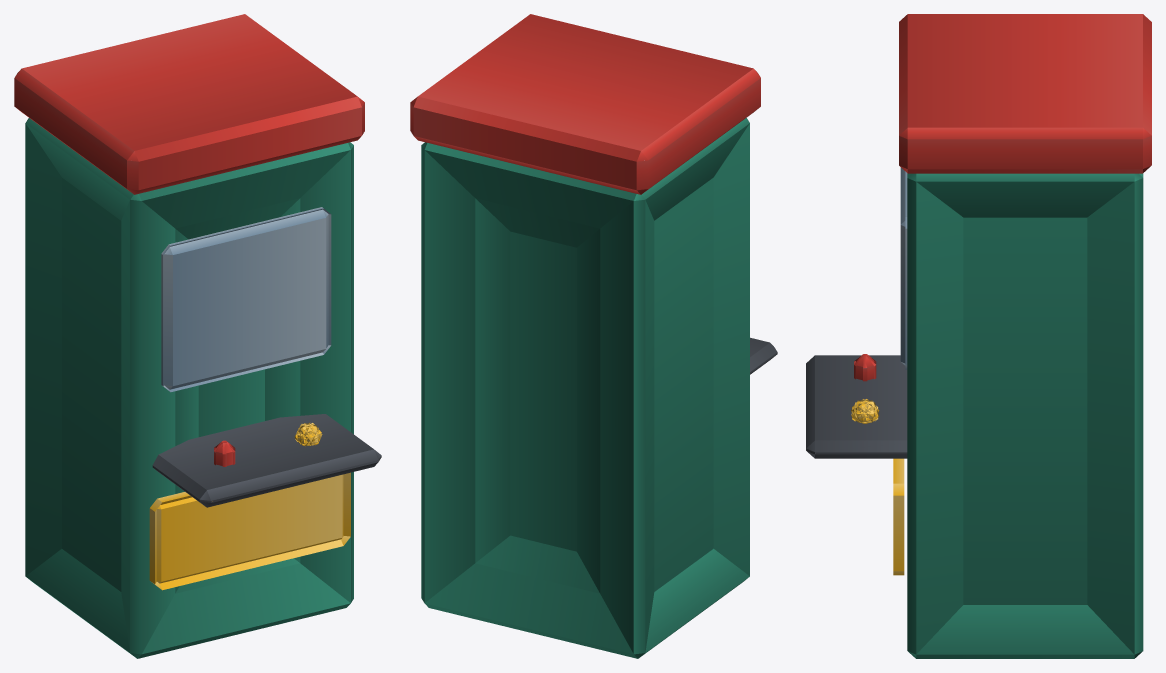
The model's file is dt_arcade_cabinet.fbx.
3 views of the same model, side by side, from view 1: azimuth 30°, elevation 25°; view 2: azimuth 150°, elevation 25°; view 3: azimuth 270°, elevation 25° (orthographic). The views are drawn at different scales.
Visible parts, largest first — view 1: dt_arcade_cabinet; view 2: dt_arcade_cabinet; view 3: dt_arcade_cabinet.
Boxes of the visible parts, box(x1,y1,x2,y2) form: dt_arcade_cabinet: box(14, 14, 381, 658); dt_arcade_cabinet: box(410, 14, 777, 658); dt_arcade_cabinet: box(806, 14, 1151, 658).
Size of the model in its own units: 316 by 650 by 381.
